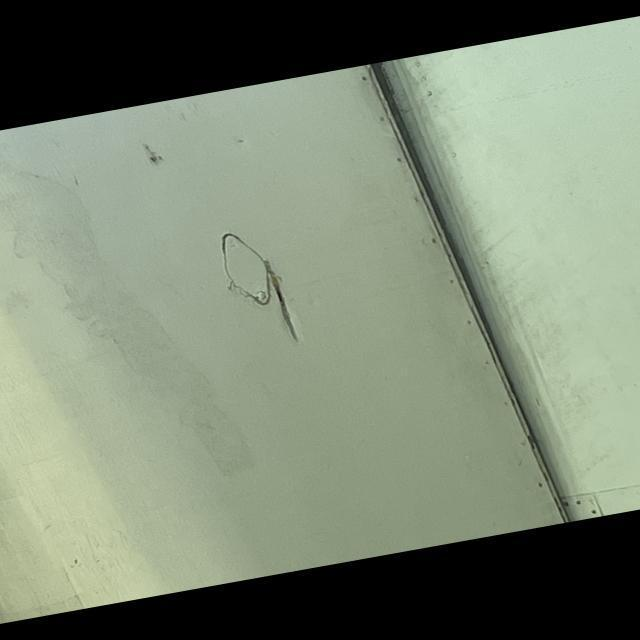crack: (237, 260, 328, 344)
